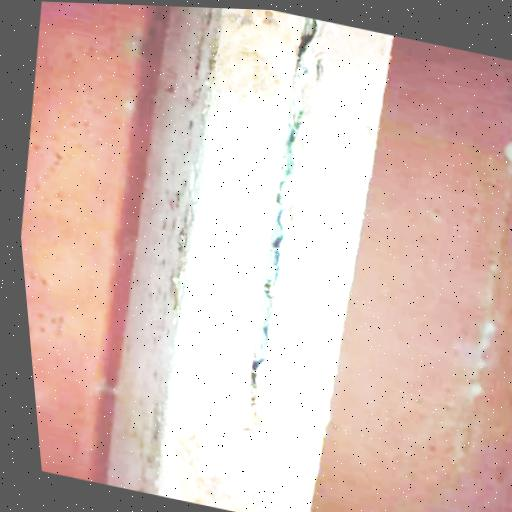crack: (203, 8, 372, 440)
